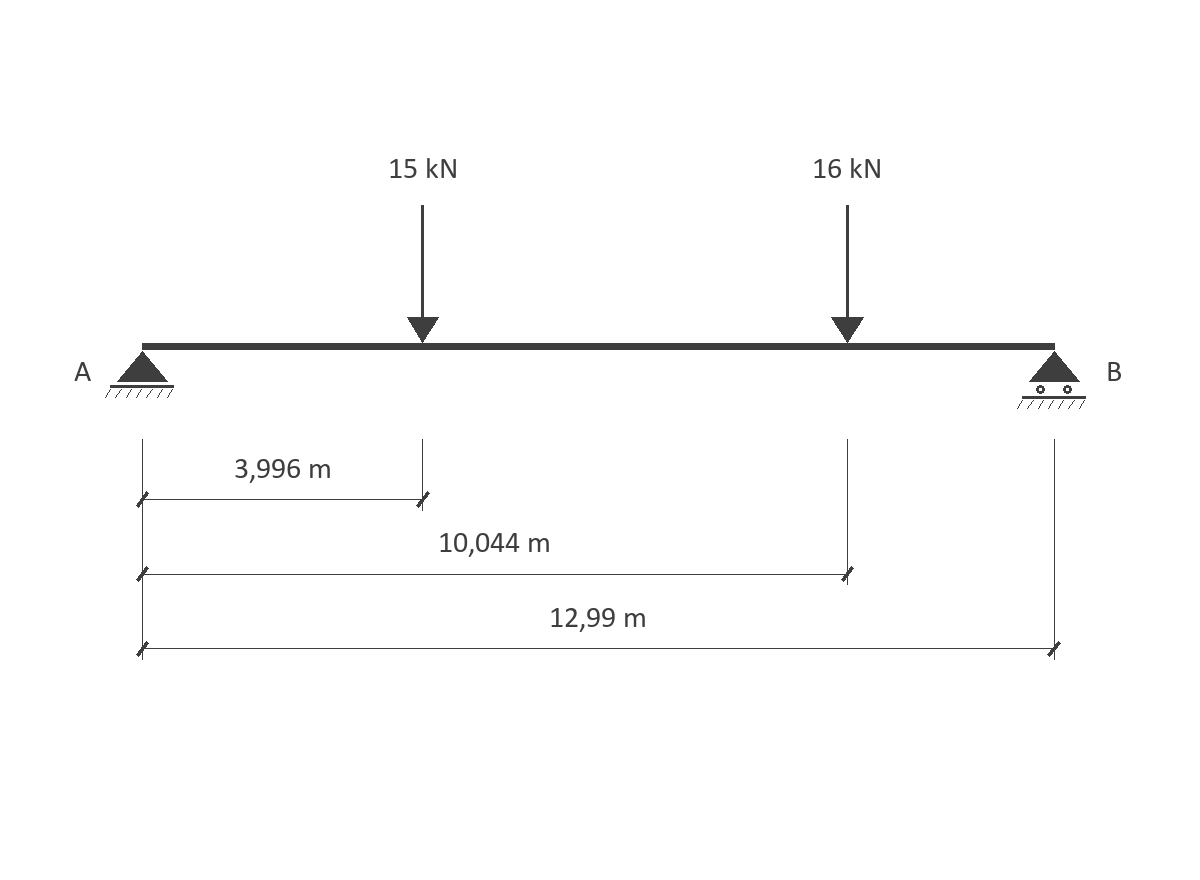pin_support: (105, 351, 174, 398)
point_load: (831, 205, 864, 343), (407, 205, 439, 343)
roller_support: (1017, 351, 1086, 409)
